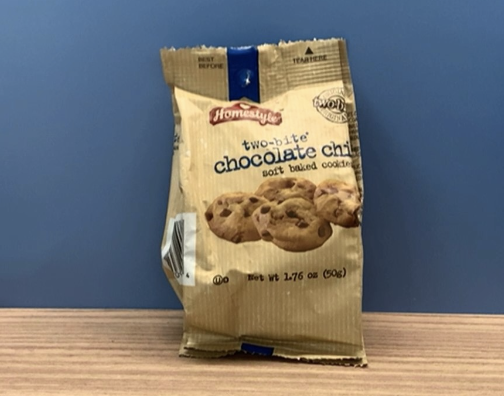cookies_50g: (185, 89, 355, 298)
